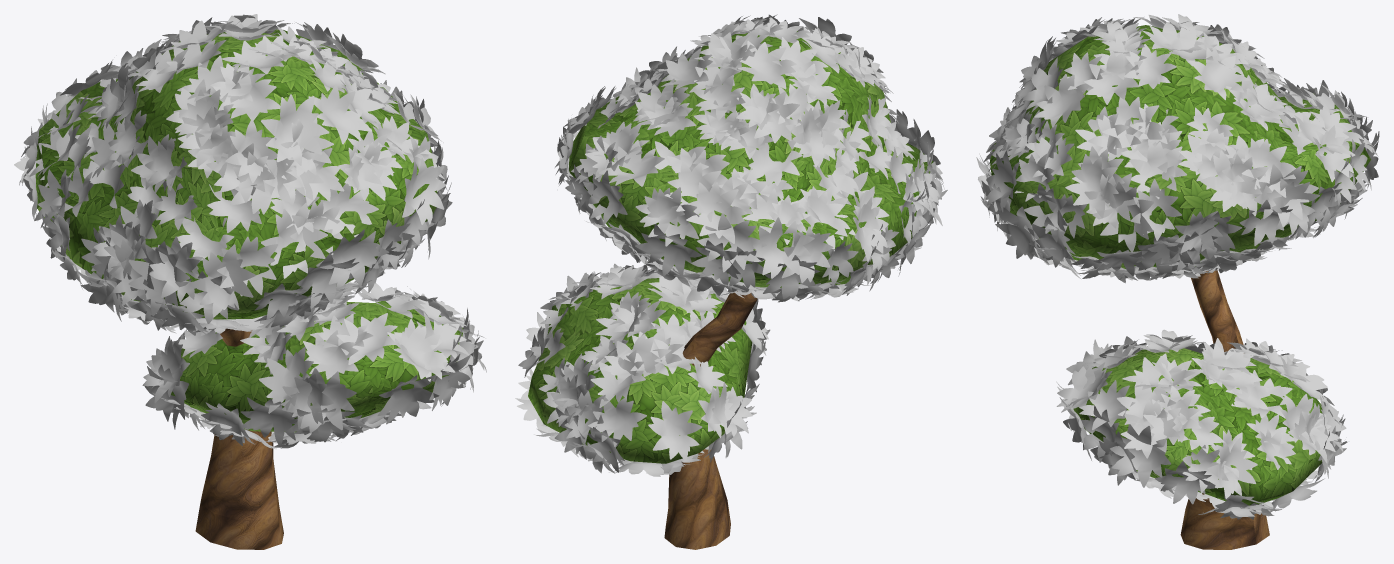
The model's file is tree_02.fbx.
3 renders of one model, left to right at view 1: azimuth 30°, elevation 25°; view 2: azimuth 150°, elevation 25°; view 3: azimuth 270°, elevation 25°, orthographic. The views are drawn at different scales.
Visible parts, largest first — view 1: tree_02; view 2: tree_02; view 3: tree_02.
Part boxes in pixels (bbox=[...]): tree_02: bbox=[14, 14, 486, 549]; tree_02: bbox=[515, 14, 947, 549]; tree_02: bbox=[976, 14, 1379, 549].
Bounding box in the file's own units: 68.9 × 85.88 × 63.38.
